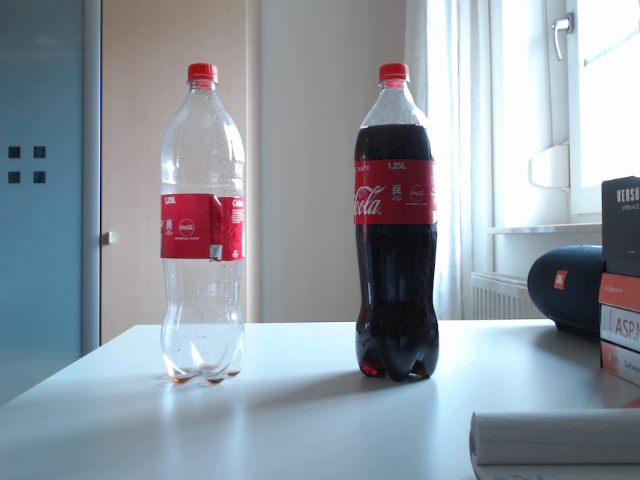bottle: (353, 63, 439, 383), (160, 63, 244, 387)
